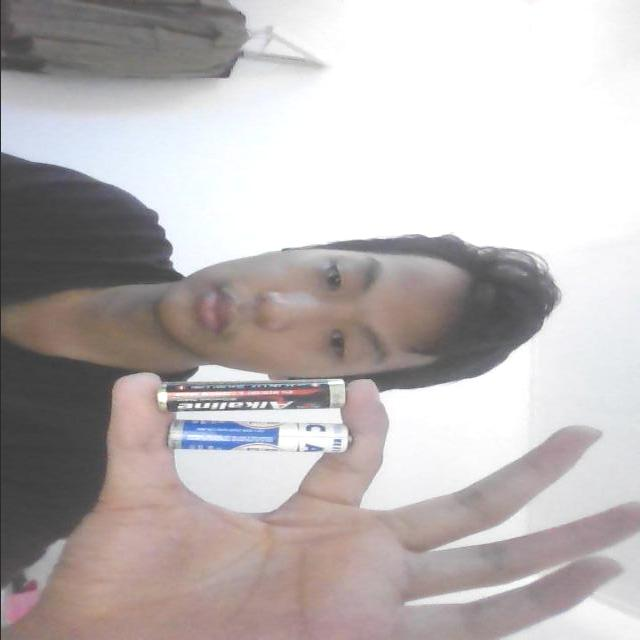AAA: (137, 367, 366, 415), (142, 416, 366, 459)
